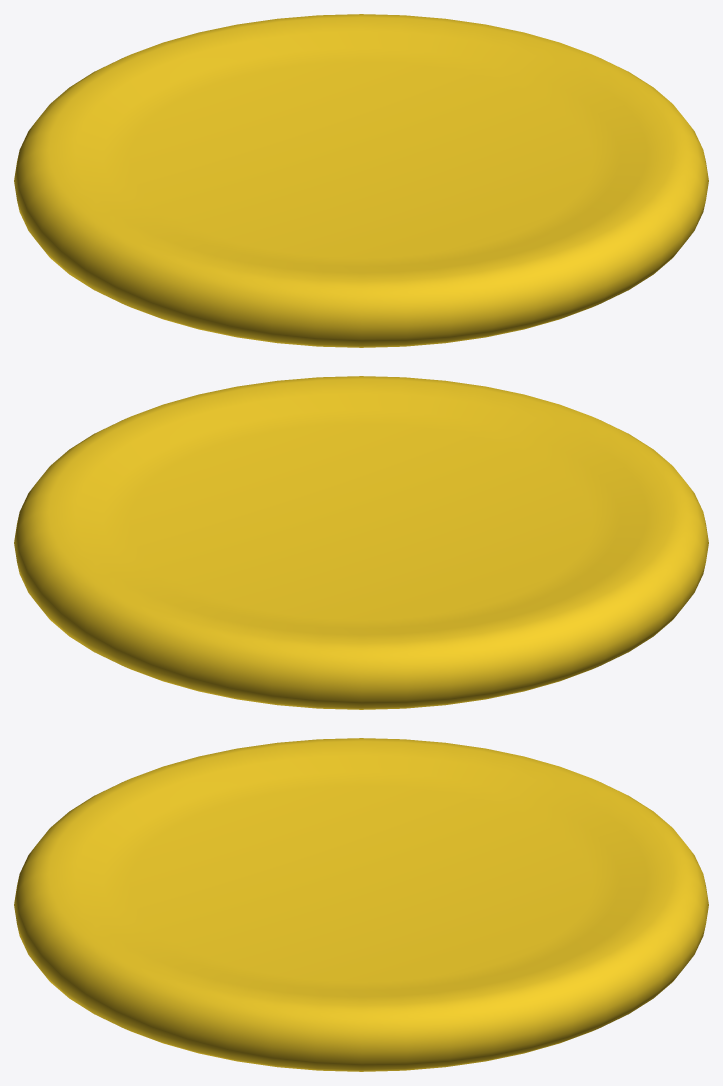
File: KH_Frisbee_A.fbx
3 renders of one model, top to bottom at view 1: azimuth 30°, elevation 25°; view 2: azimuth 150°, elevation 25°; view 3: azimuth 270°, elevation 25°, orthographic.
Parts seen in each view (by area): view 1: KH_Frisbee_A; view 2: KH_Frisbee_A; view 3: KH_Frisbee_A.
Boxes of the visible parts, x1,y1,x2,y2 form: KH_Frisbee_A: [14, 14, 708, 347]; KH_Frisbee_A: [14, 376, 708, 709]; KH_Frisbee_A: [14, 738, 708, 1071].
Size of the model in its own units: 24 by 2.4 by 24.
